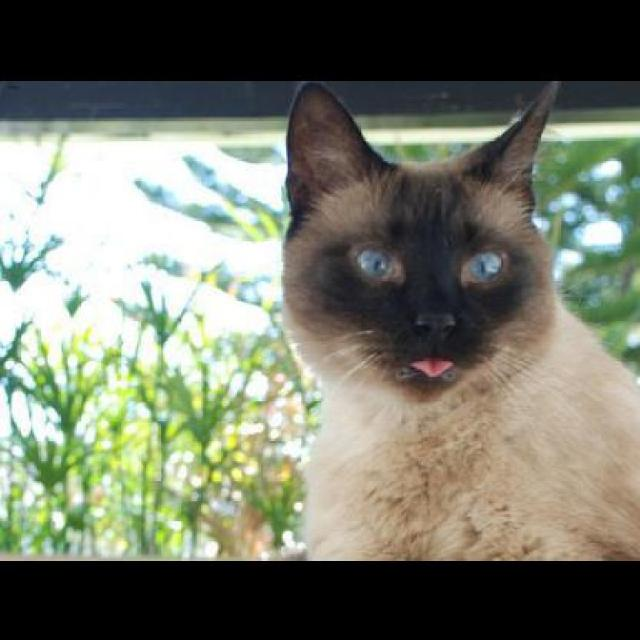unauthorized: (278, 78, 638, 560)
